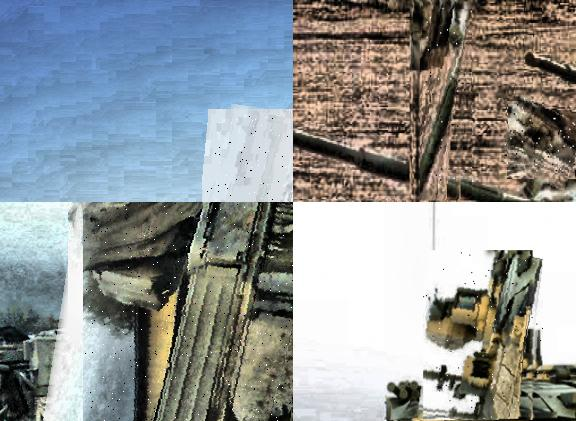tanks: (85, 203, 294, 421), (424, 254, 545, 421), (422, 4, 472, 200), (506, 97, 576, 172), (528, 55, 576, 83)
